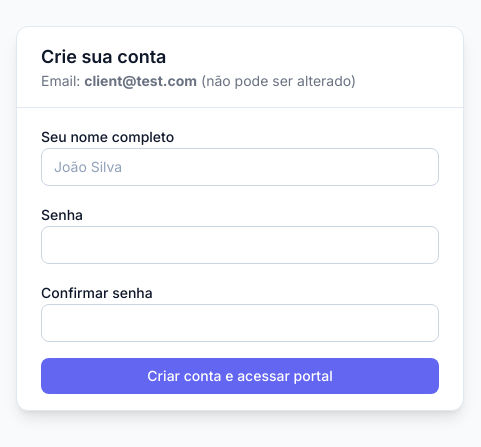
Scenario: ClientRegistrationFlow › validação: nome < 2 chars → erro inline
Type "A" into the field labelled "Seu nome completo" at (240, 166), box [41,148,439,186]
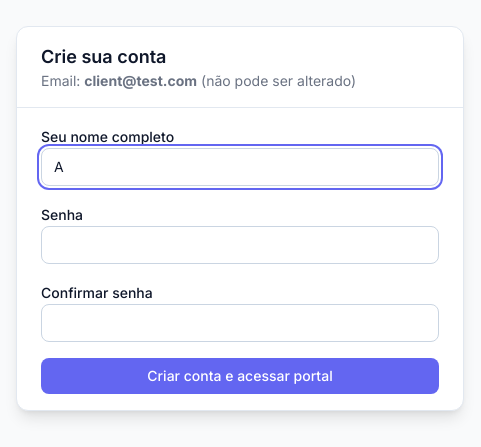
Type "12345678" into the password field labelled "Senha" at (240, 244), box [41,226,439,264]
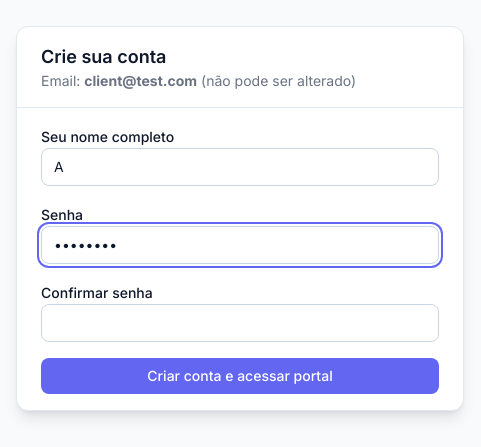
Type "12345678" into the password field labelled "Confirmar senha" at (240, 322), box [41,304,439,342]
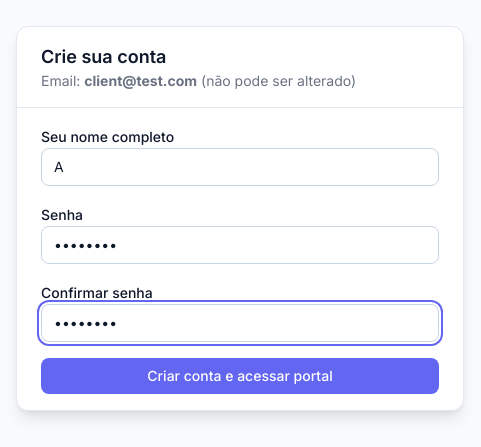
Click the button "Criar conta e acessar portal" at (240, 376), box [41,358,439,394]
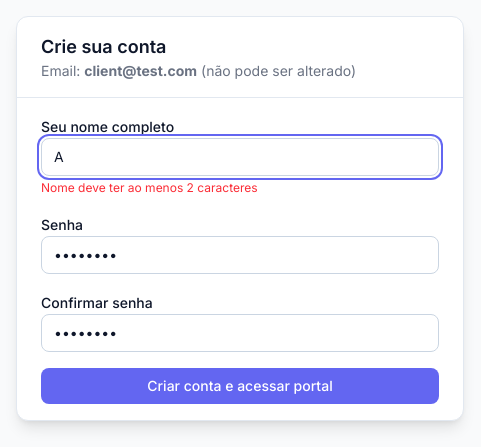
Now the text "Nome deve ter ao menos 2 caracteres" is shown, box [41,180,258,194]
